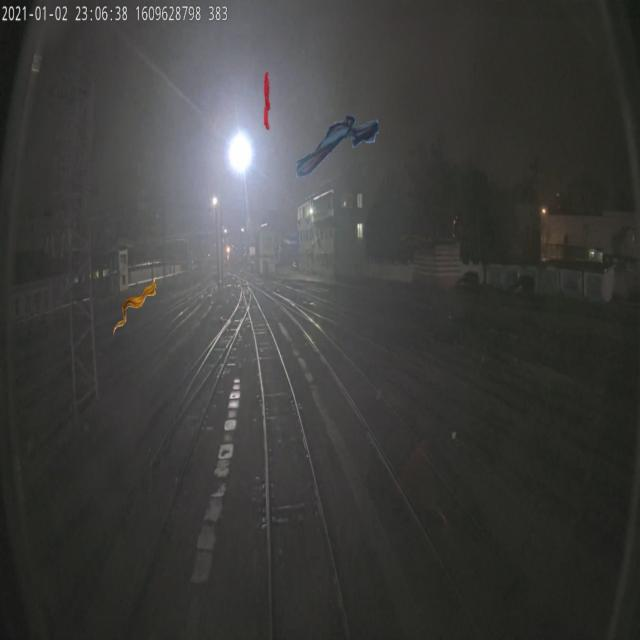floating object: (296, 114, 378, 178), (112, 274, 156, 338), (264, 67, 271, 132)
